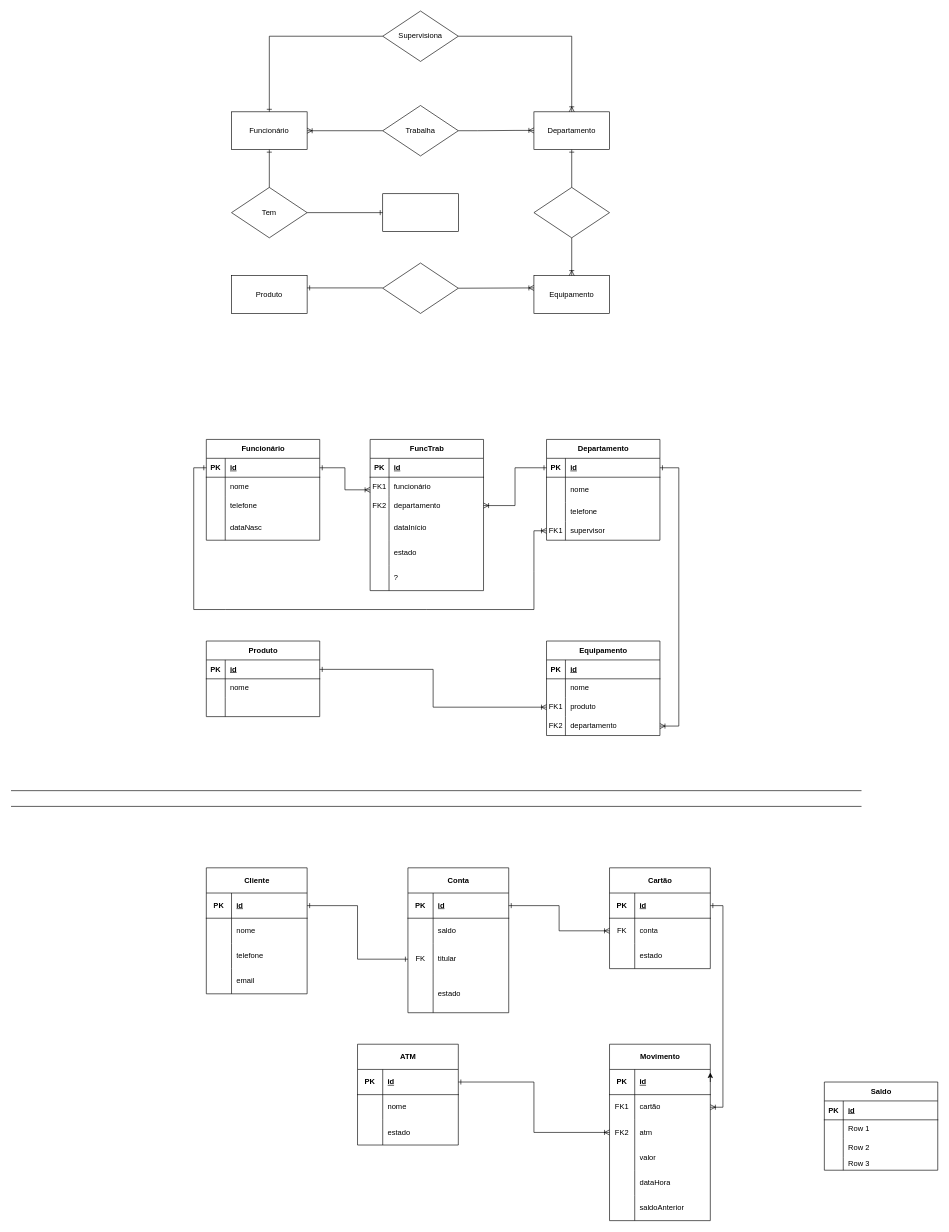
This 949x1232 diagram has some shape labels left out. Each missing label, with the centre of its shape:
"Categoria" goes at (420,212).
"Existe" goes at (571,212).
"Produzido" goes at (420,287).
